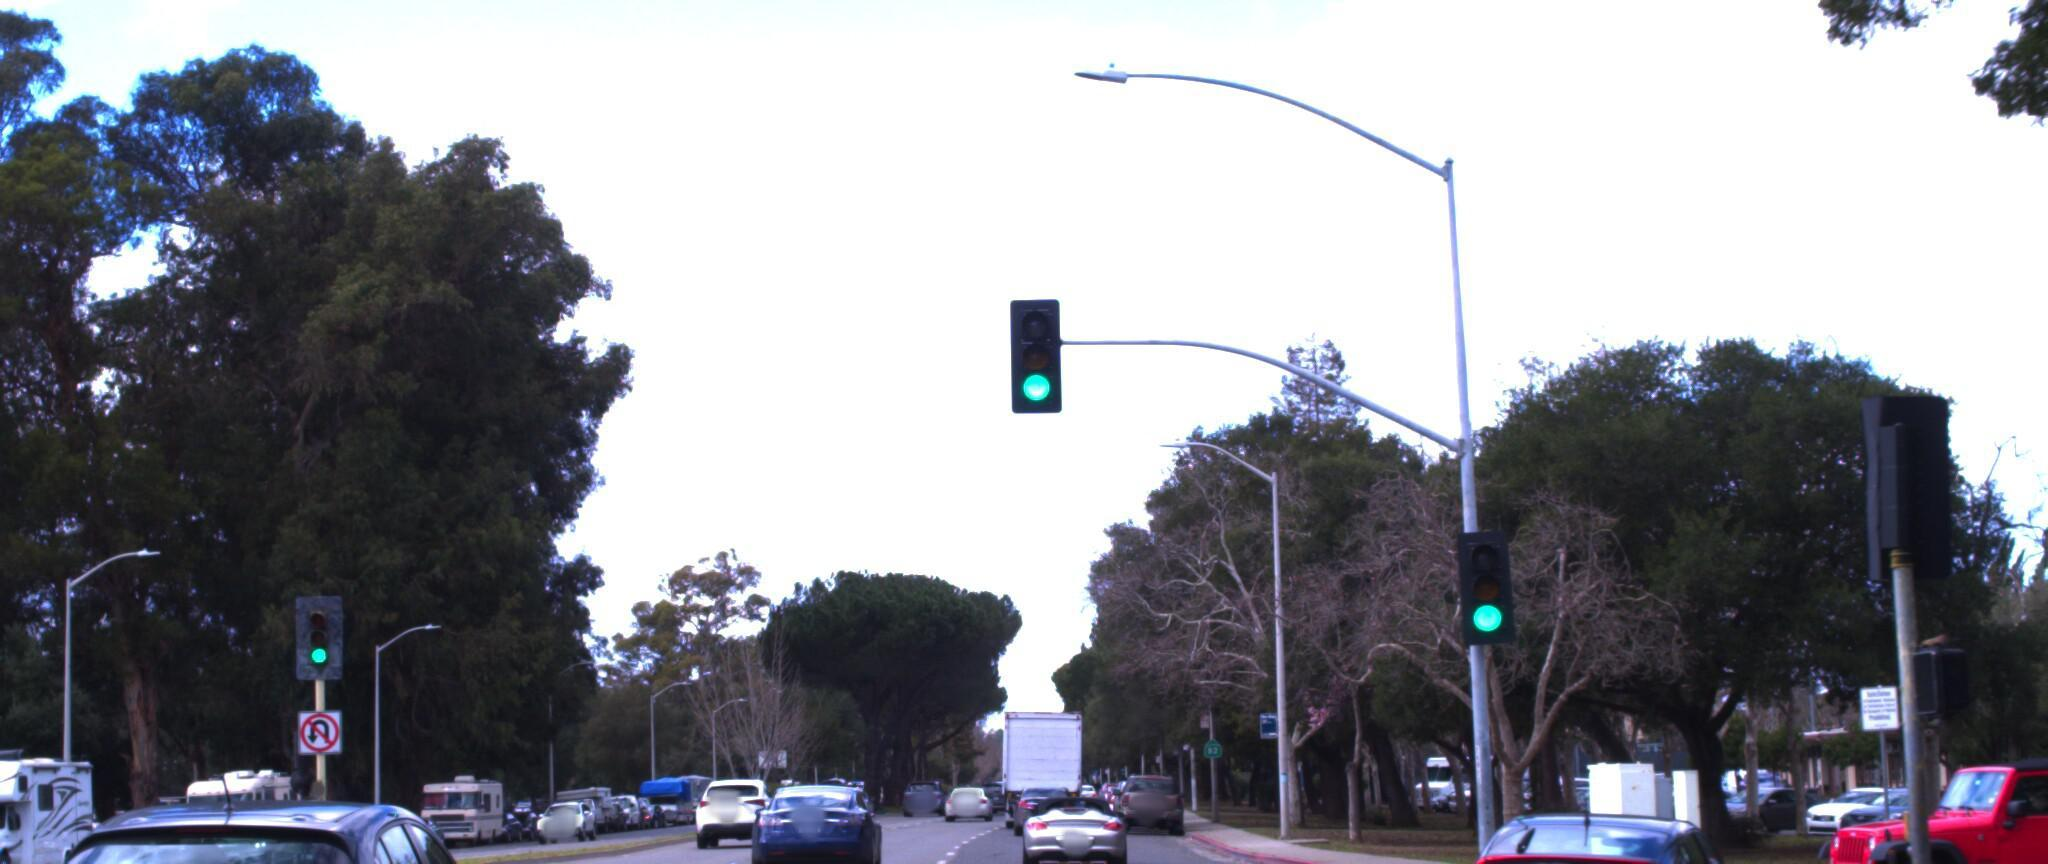car: (0, 760, 556, 864), (1761, 723, 2048, 864), (1398, 777, 1821, 864), (741, 760, 882, 857), (1002, 754, 1130, 857), (690, 743, 788, 822)
other_vehicle: (0, 713, 110, 864)
